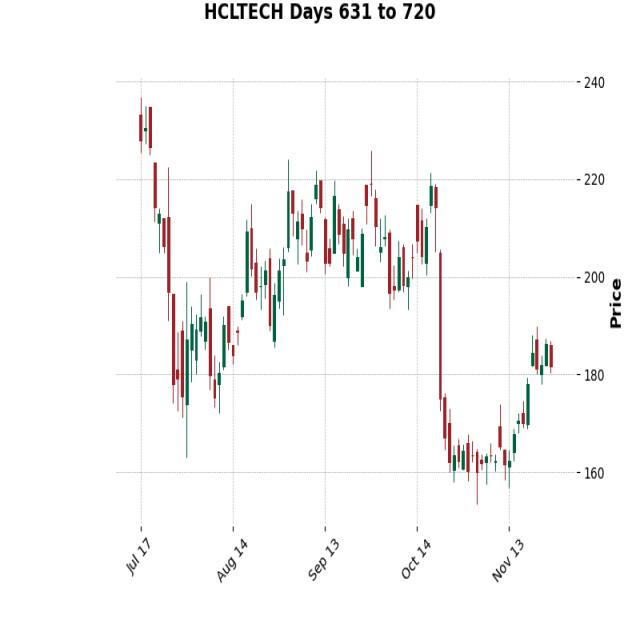Symmetric Triangle: (261, 145, 421, 356)
